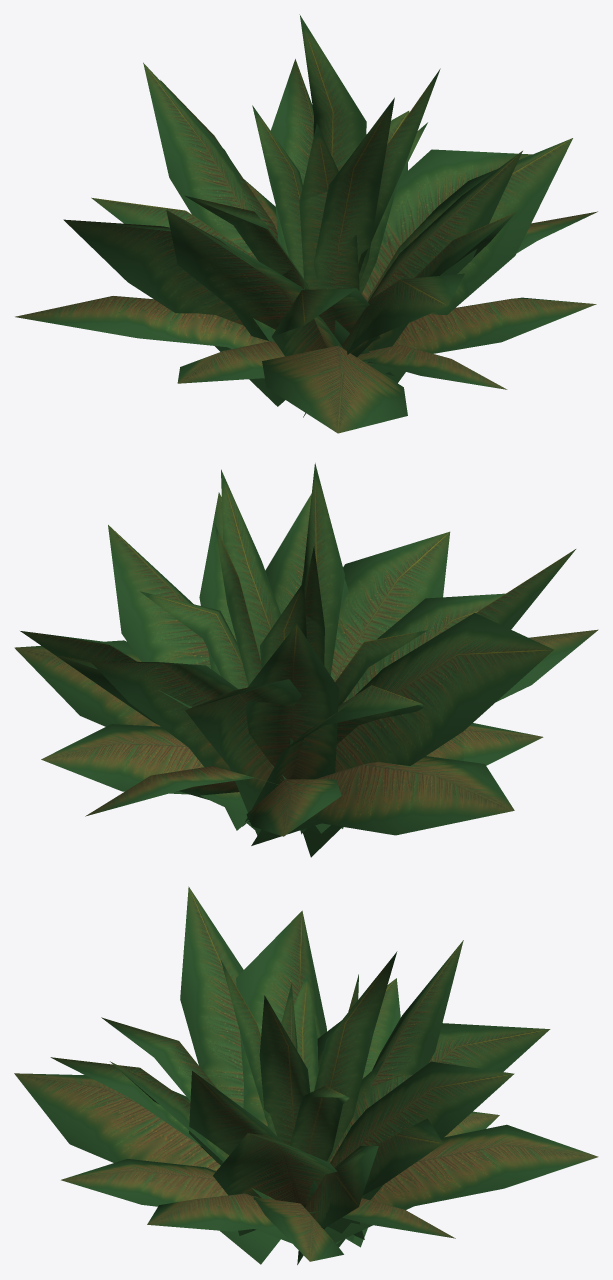
File: Fern_1_L2.fbx
3 renders of one model, top to bottom at view 1: azimuth 30°, elevation 25°; view 2: azimuth 150°, elevation 25°; view 3: azimuth 270°, elevation 25°, orthographic. The views are drawn at different scales.
Parts seen in each view (by area): view 1: polySurface4; view 2: polySurface4; view 3: polySurface4.
Part boxes in pixels (x1,y1,x2,y2): polySurface4: (15, 14, 597, 433); polySurface4: (14, 463, 598, 857); polySurface4: (14, 886, 598, 1264).
Bounding box in the file's own units: 355 × 218 × 366.
